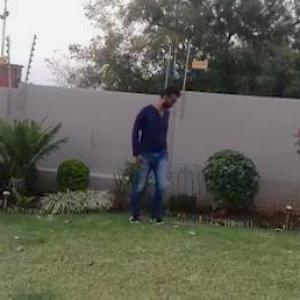follow: (127, 82, 173, 226)
